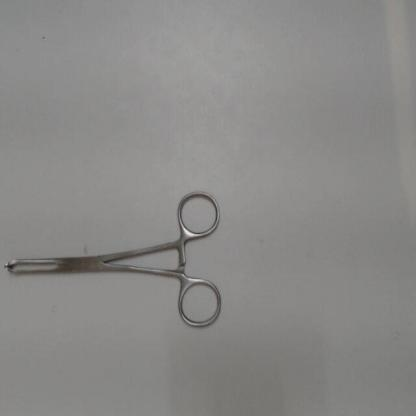Allis Tissue Forceps: (1, 182, 227, 343)
